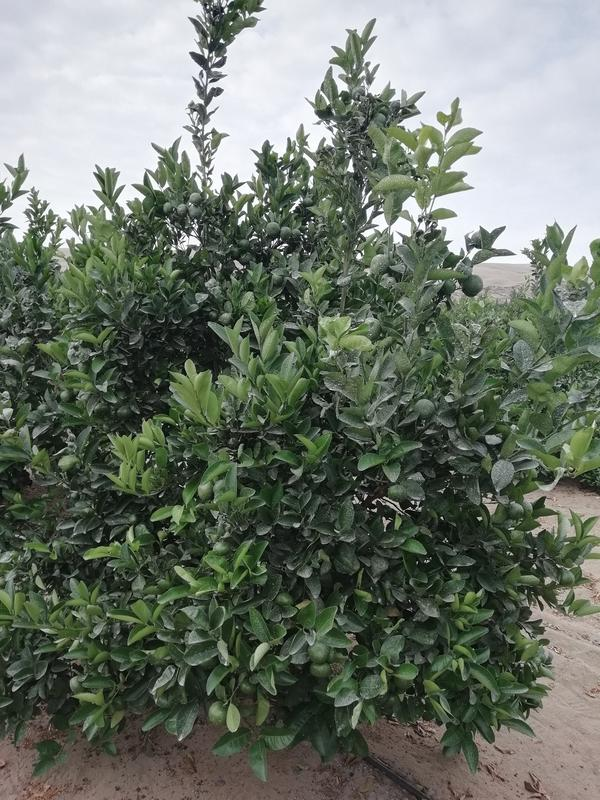mandarina verde: (308, 640, 333, 665), (207, 699, 228, 727), (412, 395, 435, 419), (462, 273, 483, 297), (504, 499, 525, 522), (387, 484, 408, 502), (308, 663, 333, 678), (264, 221, 281, 237), (187, 189, 202, 205), (187, 203, 202, 219), (175, 200, 188, 216), (279, 224, 291, 240), (161, 199, 172, 215)
